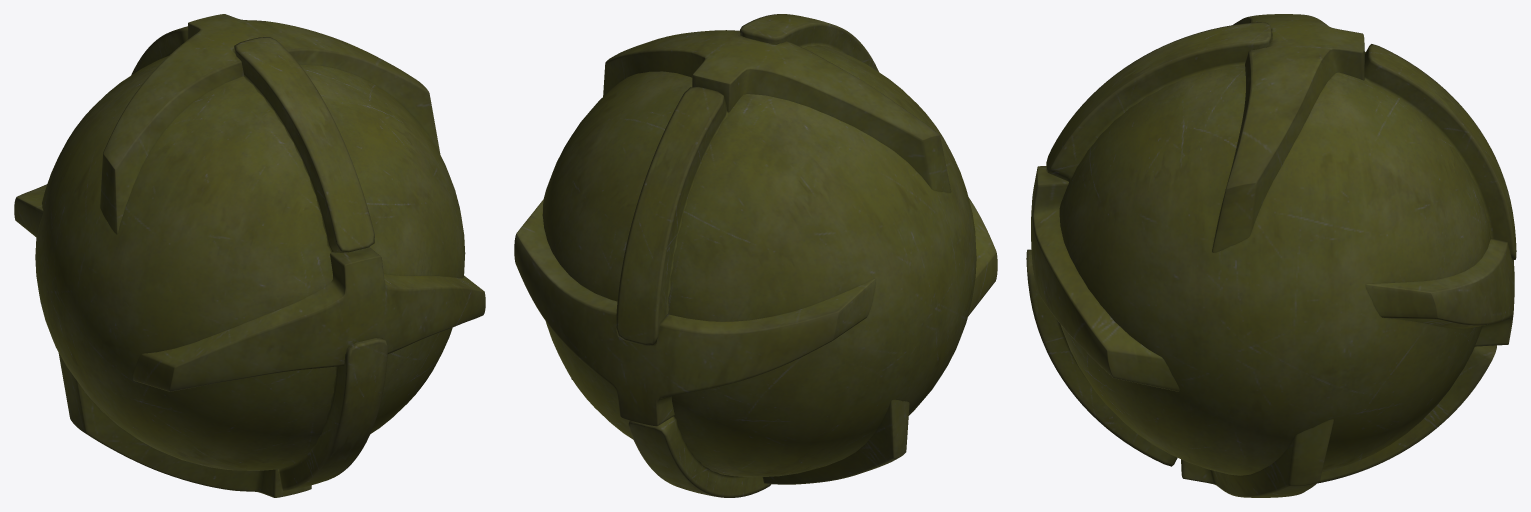
Rendered from clusterbomb-2.gltf.
3 renders of one model, left to right at view 1: azimuth 30°, elevation 25°; view 2: azimuth 150°, elevation 25°; view 3: azimuth 270°, elevation 25°, orthographic. The views are drawn at different scales.
Parts seen in each view (by area): view 1: op1; view 2: op1; view 3: op1.
Boxes of the visible parts, x1,y1,x2,y2 form: op1: (14,14,485,497); op1: (514,14,997,497); op1: (1026,14,1516,497).
Size of the model in its own units: 64 by 71.11 by 70.48.
1 material, 1 textured.
